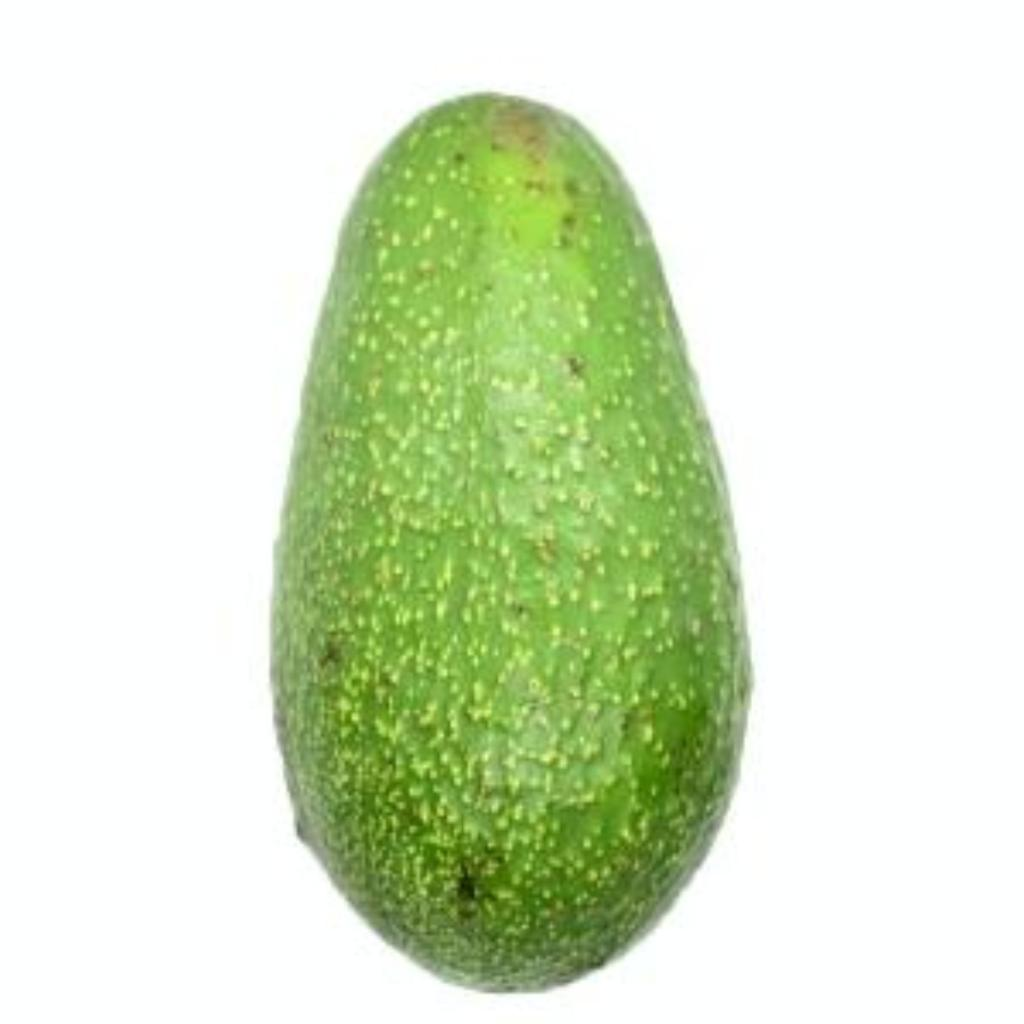cercospora_spot: (228, 86, 772, 1000)
